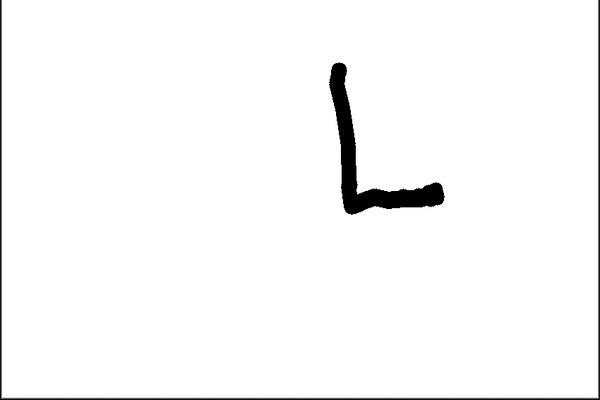L: (321, 57, 455, 226)
